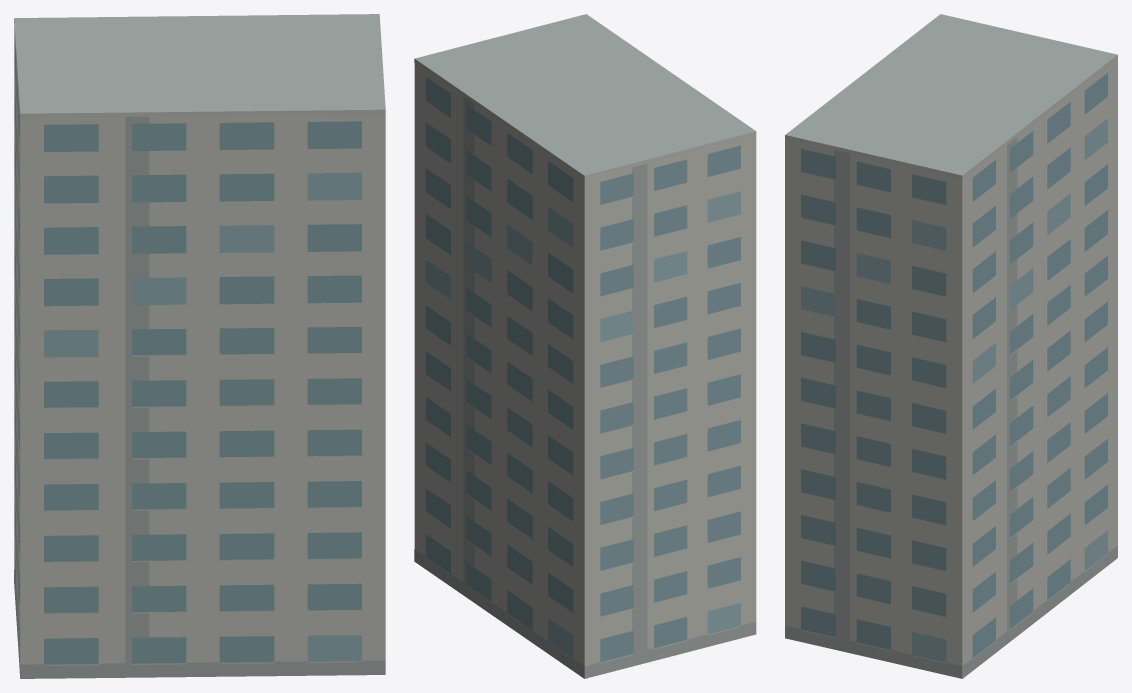
Rendered from residential-4d114374-1701-4e1f-b493-ccb792bdabd9.glb.
3 renders of one model, left to right at view 1: azimuth 30°, elevation 25°; view 2: azimuth 150°, elevation 25°; view 3: azimuth 270°, elevation 25°, orthographic. The views are drawn at different scales.
Visible parts, largest first — view 1: residential-4d114374-1701-4e1f-b493-ccb792bdabd9.tmp; view 2: residential-4d114374-1701-4e1f-b493-ccb792bdabd9.tmp; view 3: residential-4d114374-1701-4e1f-b493-ccb792bdabd9.tmp.
Part boxes in pixels (x1,y1,x2,y2): residential-4d114374-1701-4e1f-b493-ccb792bdabd9.tmp: (14, 14, 385, 678); residential-4d114374-1701-4e1f-b493-ccb792bdabd9.tmp: (414, 14, 756, 678); residential-4d114374-1701-4e1f-b493-ccb792bdabd9.tmp: (785, 14, 1117, 678).
Bounding box in the file's own units: 21.35 × 31 × 18.58.
